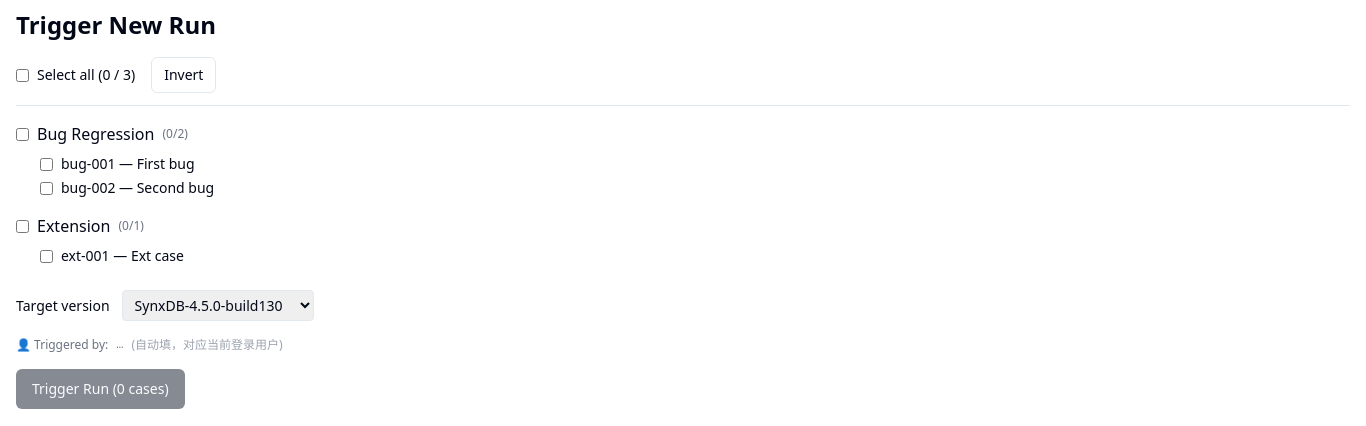
Test case: RunNewPage › select-all-global unchecks all when all are selected
Check: the checkbox with test id "case-checkbox-bug-001" is shown, box [40,158,53,170]
// Select all first
Click the checkbox with test id "select-all-global" at (22, 75), box [16,68,29,82]
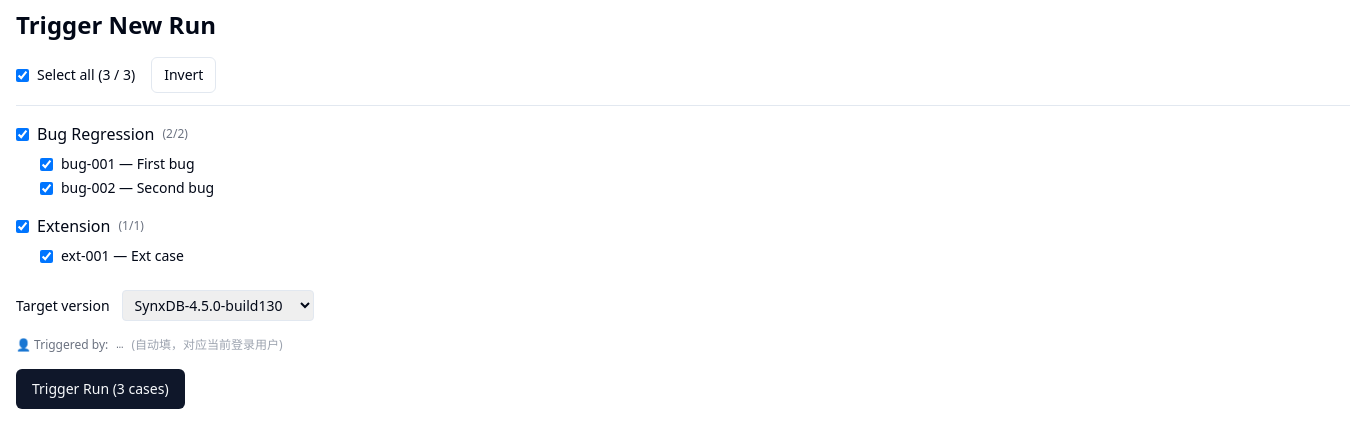
// Then deselect all
Click the checkbox with test id "select-all-global" at (22, 75), box [16,68,29,82]
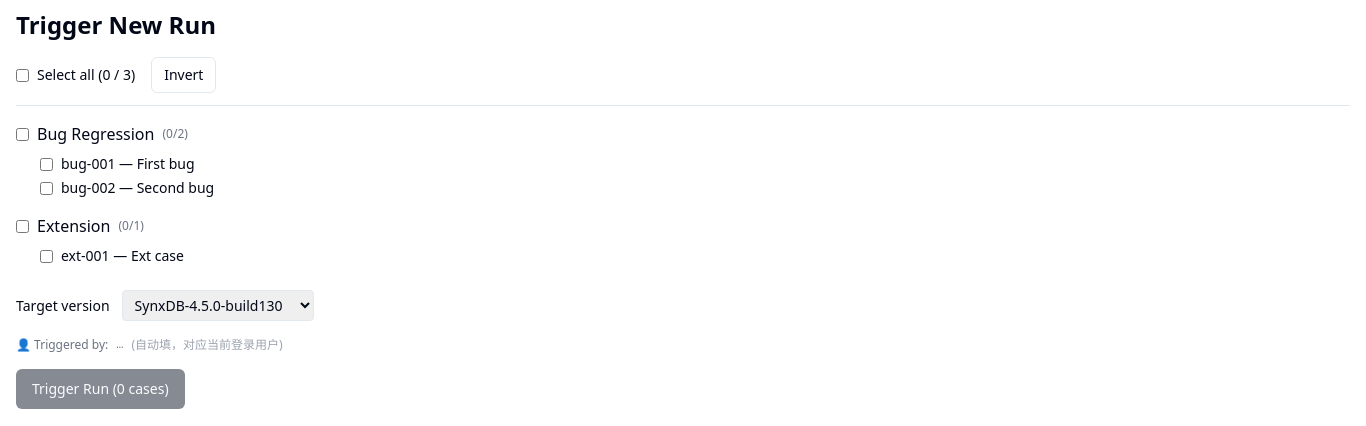
Check: the checkbox with test id "case-checkbox-bug-001" is not checked, box [40,158,53,170]
